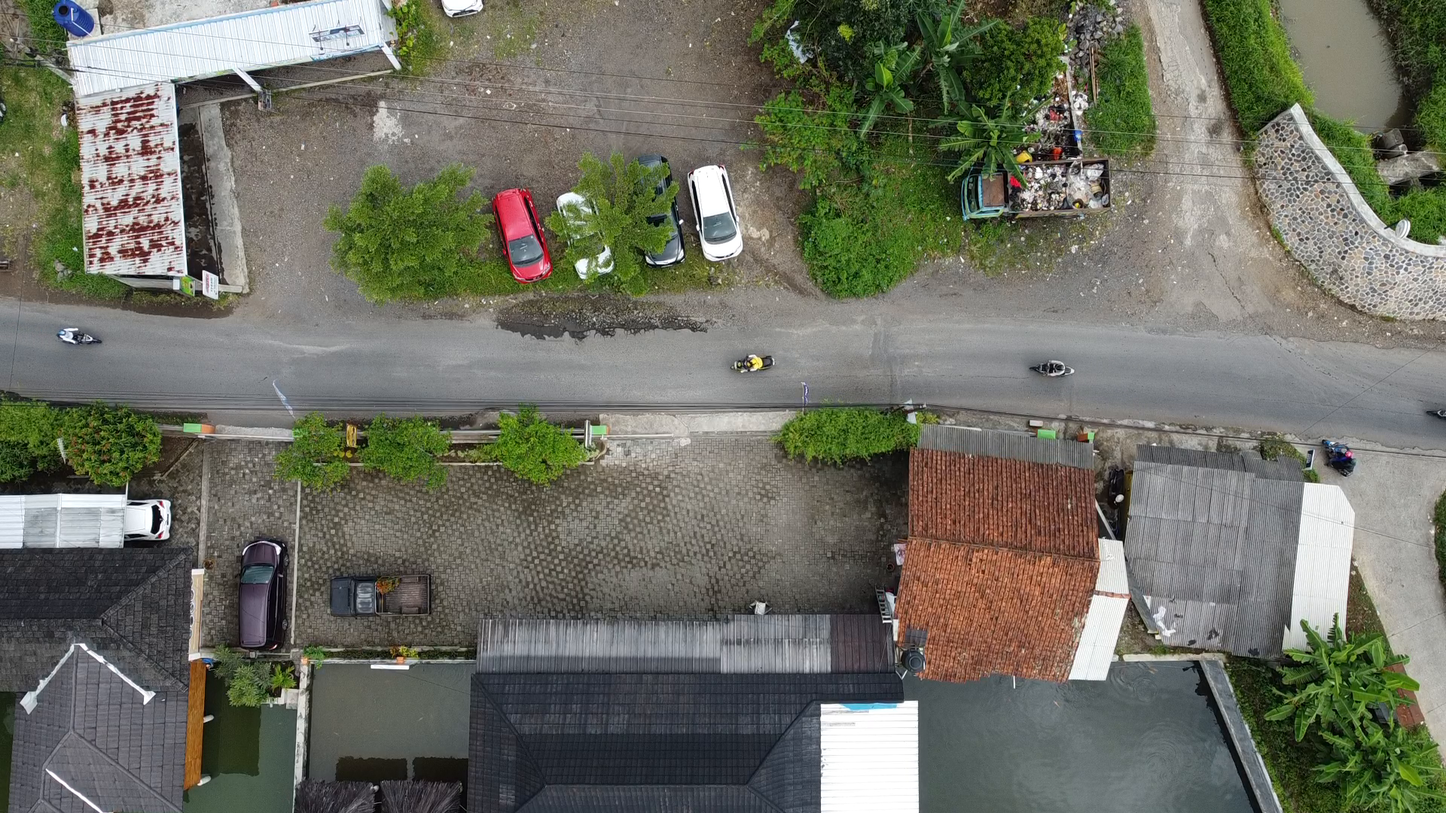mobil: (618, 146, 698, 266), (548, 181, 623, 288), (482, 187, 559, 291), (230, 537, 297, 651), (683, 159, 750, 268), (322, 572, 444, 623), (121, 491, 180, 551)
